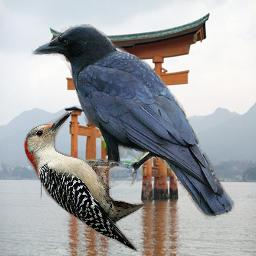Crow: (31, 24, 235, 223)
Woodpecker: (23, 110, 146, 252)
